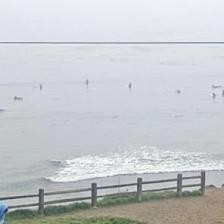surfer: (211, 84, 221, 88), (14, 96, 22, 101), (176, 88, 182, 94), (212, 92, 216, 99), (128, 82, 132, 88), (86, 78, 89, 86), (38, 84, 42, 90), (221, 89, 223, 99), (1, 107, 5, 112)
